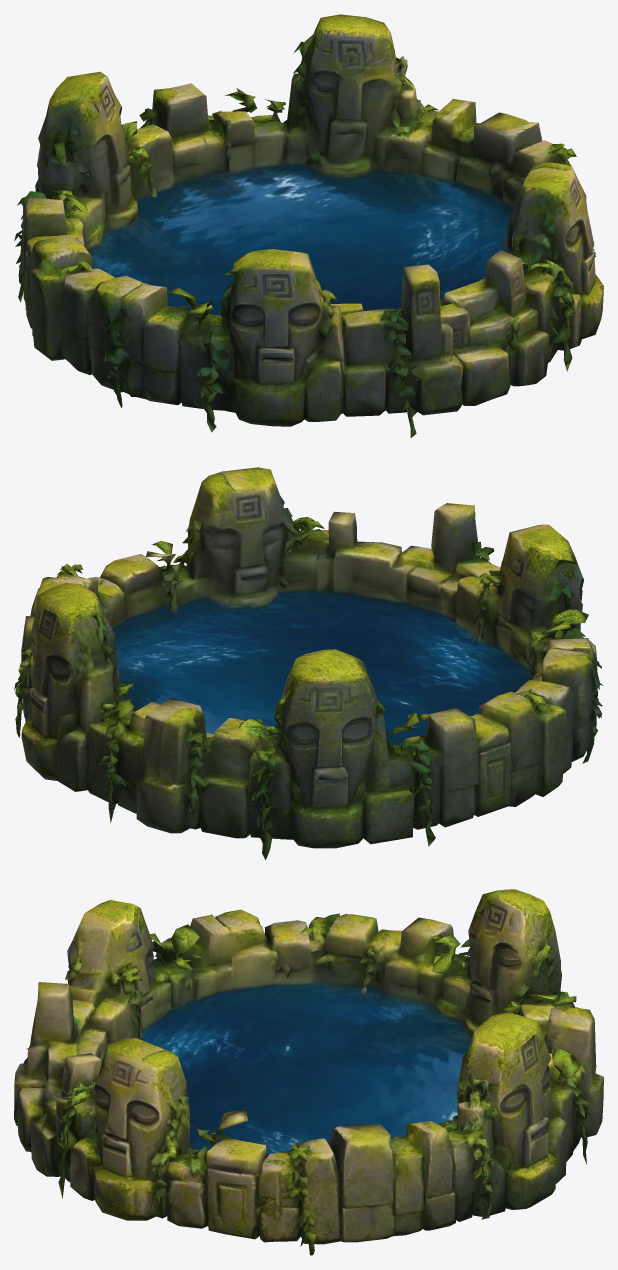
The model's file is ancient circular well 3d model.glb.
3 renders of one model, top to bottom at view 1: azimuth 30°, elevation 25°; view 2: azimuth 150°, elevation 25°; view 3: azimuth 270°, elevation 25°, orthographic.
Visible parts, largest first — view 1: tripo_node_209c2d07-19d3-4eea-b1e3-15b21666beb7; view 2: tripo_node_209c2d07-19d3-4eea-b1e3-15b21666beb7; view 3: tripo_node_209c2d07-19d3-4eea-b1e3-15b21666beb7.
Boxes of the visible parts, <box> form: tripo_node_209c2d07-19d3-4eea-b1e3-15b21666beb7: <box>14,14,603,437</box>; tripo_node_209c2d07-19d3-4eea-b1e3-15b21666beb7: <box>14,467,603,860</box>; tripo_node_209c2d07-19d3-4eea-b1e3-15b21666beb7: <box>14,889,603,1255</box>.
Bounding box in the file's own units: 1 × 0.3514 × 0.9899.
1 material, 1 textured.
